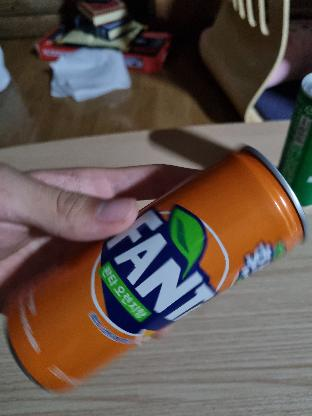Can: (5, 148, 312, 399)
